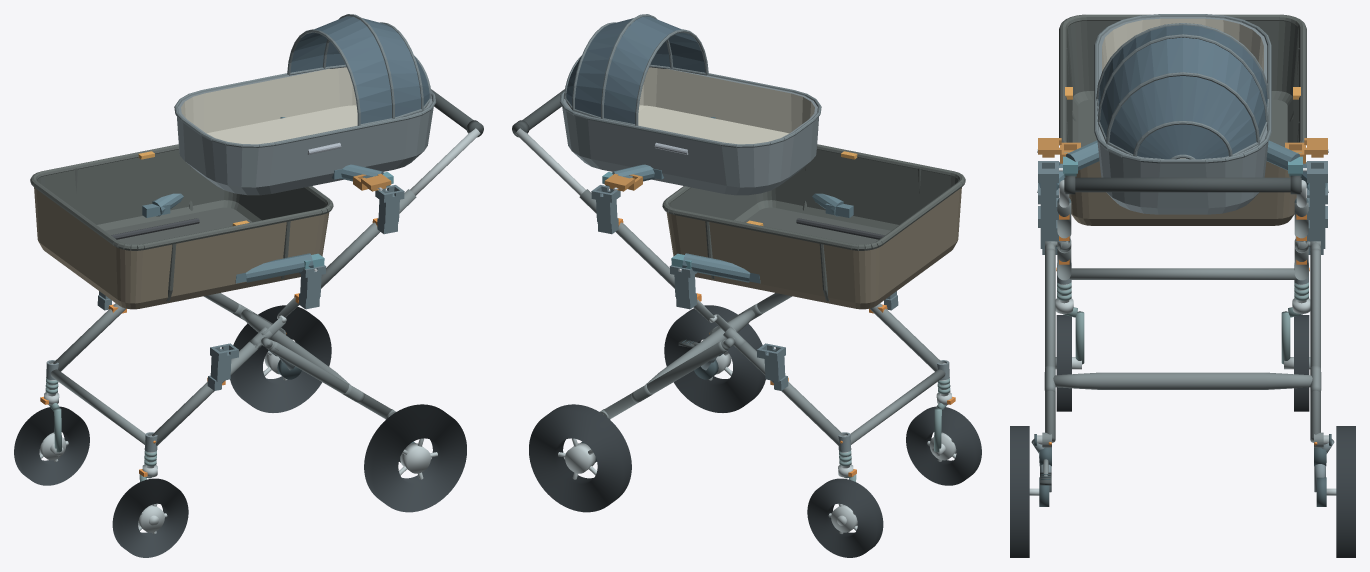
Rendered from D18_w650_state1_wheel_M.glb.
3 views of the same model, side by side, from view 1: azimuth 30°, elevation 25°; view 2: azimuth 150°, elevation 25°; view 3: azimuth 270°, elevation 25° (orthographic). The views are drawn at different scales.
Visible parts, largest first — view 1: D18_Lower, D18_Upper, RL_tire.008, RR_tire.008, FL_tire.008, FR_tire.008, D18_Lower_Mount_M, V46_rear_leg_-1.009, main_lower_-1.009, front_fixed_round_tube.008, main_upper_-1.009, Universal_Cabin_Receiver_H_-1 (+8 smaller); view 2: D18_Lower, D18_Upper, RR_tire.008, RL_tire.008, FR_tire.008, FL_tire.008, D18_Lower_Mount_M, V46_rear_leg_1.009, main_lower_1.009, front_fixed_round_tube.008, main_upper_1.009, Universal_Cabin_Receiver_H_1 (+8 smaller); view 3: D18_Upper, D18_Lower, V46_rearbar.009, round_handle.008, front_fixed_round_tube.008, RL_tire.008, RR_tire.008, V46_rear_leg_1.009, V46_rear_leg_-1.009, D18_Upper_Mount_H, FL_tire.008, FR_tire.008 (+10 smaller).
Part boxes in pixels (x1,y1,x2,y2): D18_Lower: (30, 144, 333, 309); D18_Upper: (174, 14, 436, 195); RL_tire.008: (364, 404, 466, 512); RR_tire.008: (230, 305, 331, 412); FL_tire.008: (112, 478, 188, 557); FR_tire.008: (14, 406, 89, 485); D18_Lower_Mount_M: (142, 193, 324, 283); V46_rear_leg_-1.009: (269, 341, 391, 418); main_lower_-1.009: (152, 341, 260, 445); front_fixed_round_tube.008: (50, 369, 145, 444); main_upper_-1.009: (321, 189, 416, 288); Universal_Cabin_Receiver_H_-1: (375, 185, 404, 234); D18_Lower: (662, 144, 965, 309); D18_Upper: (559, 14, 821, 195); RR_tire.008: (529, 404, 631, 512); RL_tire.008: (664, 305, 765, 412); FR_tire.008: (807, 478, 883, 557); FL_tire.008: (906, 406, 981, 485); D18_Lower_Mount_M: (671, 193, 853, 283); V46_rear_leg_1.009: (604, 341, 726, 418); main_lower_1.009: (735, 341, 843, 445); front_fixed_round_tube.008: (850, 369, 945, 444); main_upper_1.009: (579, 189, 674, 288); Universal_Cabin_Receiver_H_1: (591, 185, 620, 234); D18_Upper: (1094, 14, 1271, 214); D18_Lower: (1059, 14, 1306, 225); V46_rearbar.009: (1053, 372, 1312, 389); round_handle.008: (1064, 177, 1301, 192); front_fixed_round_tube.008: (1069, 268, 1296, 279); RL_tire.008: (1010, 426, 1029, 557); RR_tire.008: (1336, 426, 1355, 557); V46_rear_leg_1.009: (1310, 248, 1320, 442); V46_rear_leg_-1.009: (1045, 248, 1055, 442); D18_Upper_Mount_H: (1059, 140, 1306, 176); FL_tire.008: (1056, 315, 1071, 411); FR_tire.008: (1294, 315, 1309, 411).
Size of the model in its own units: 1.16 by 1.32 by 0.7871.
